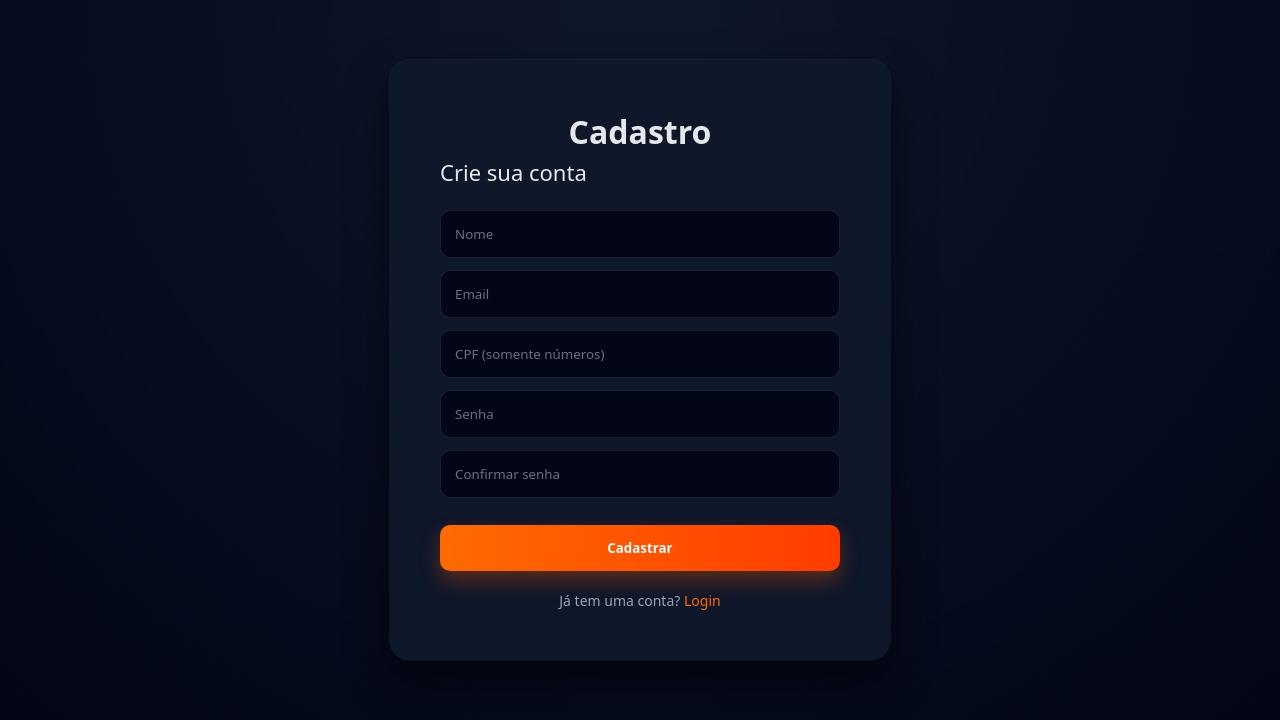
Test: Cadastro › deve mostrar erro para email inválido
In the field with placeholder "Nome": {"x": 640, "y": 234} [440, 210, 840, 258], type "Gaby"
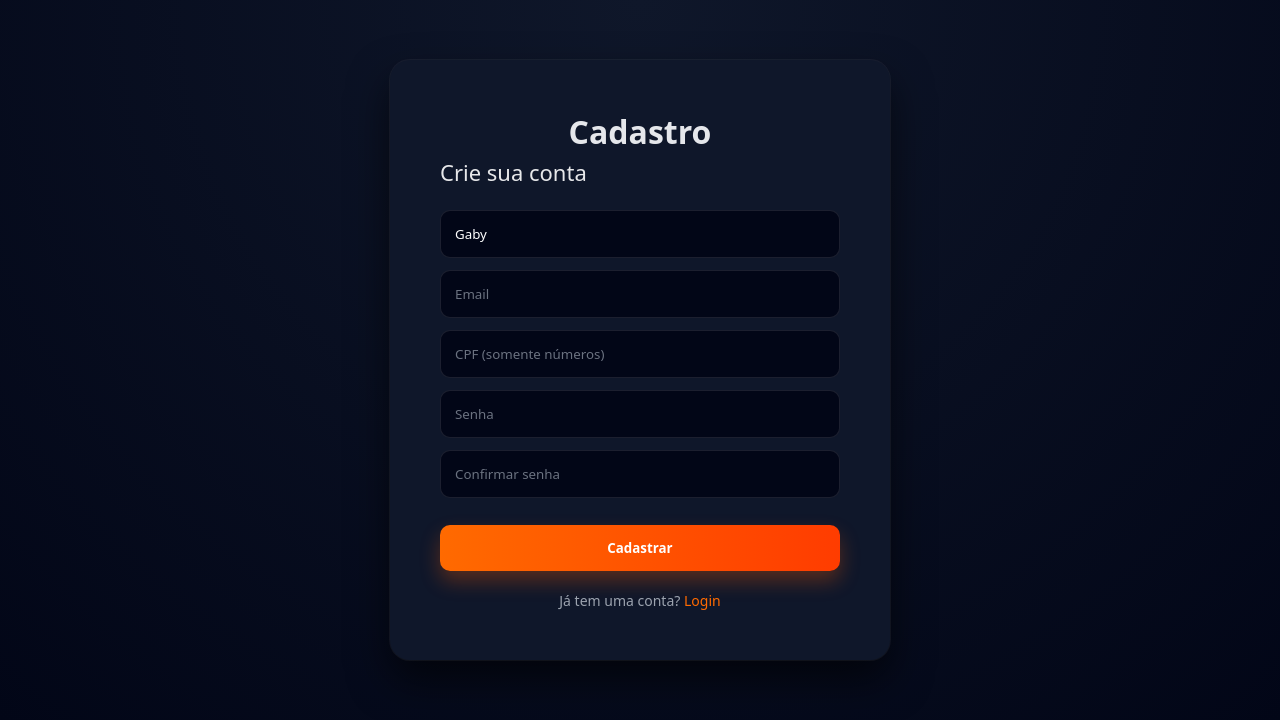
In the field with placeholder "Email": {"x": 640, "y": 294} [440, 270, 840, 318], type "email-invalido"
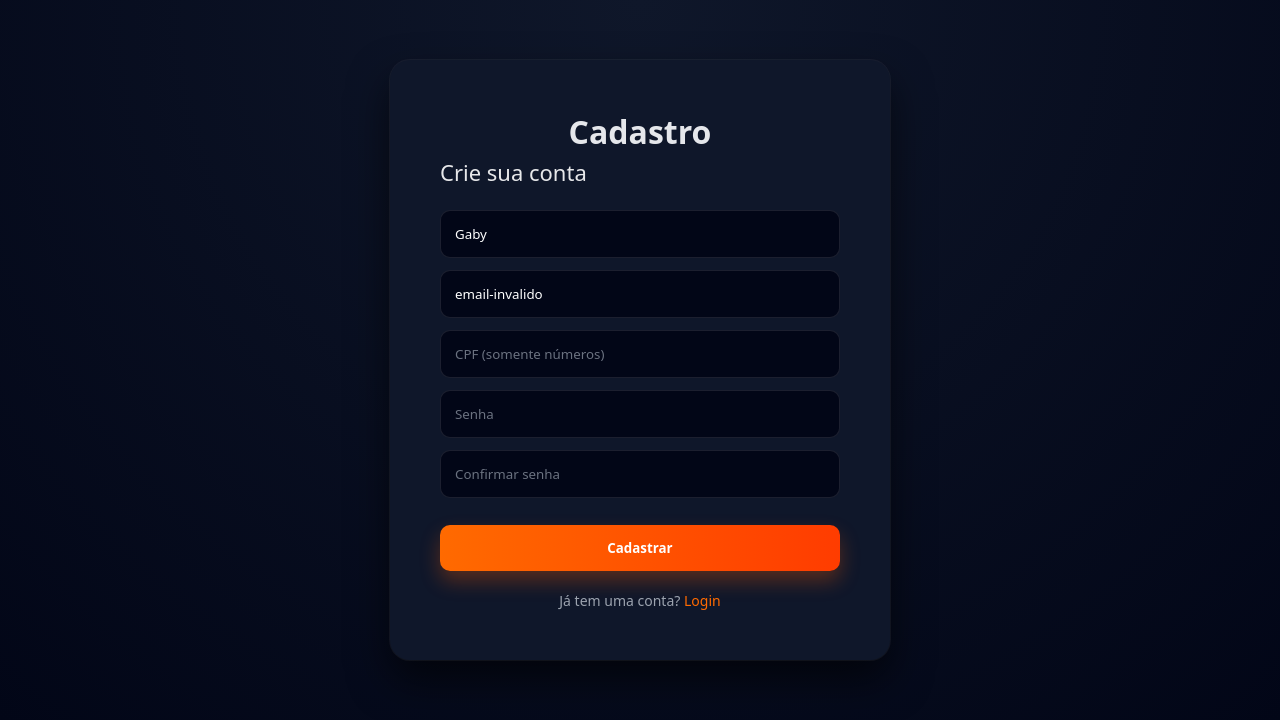
In the field with placeholder "CPF (somente números)": {"x": 640, "y": 354} [440, 330, 840, 378], type "52998224725"
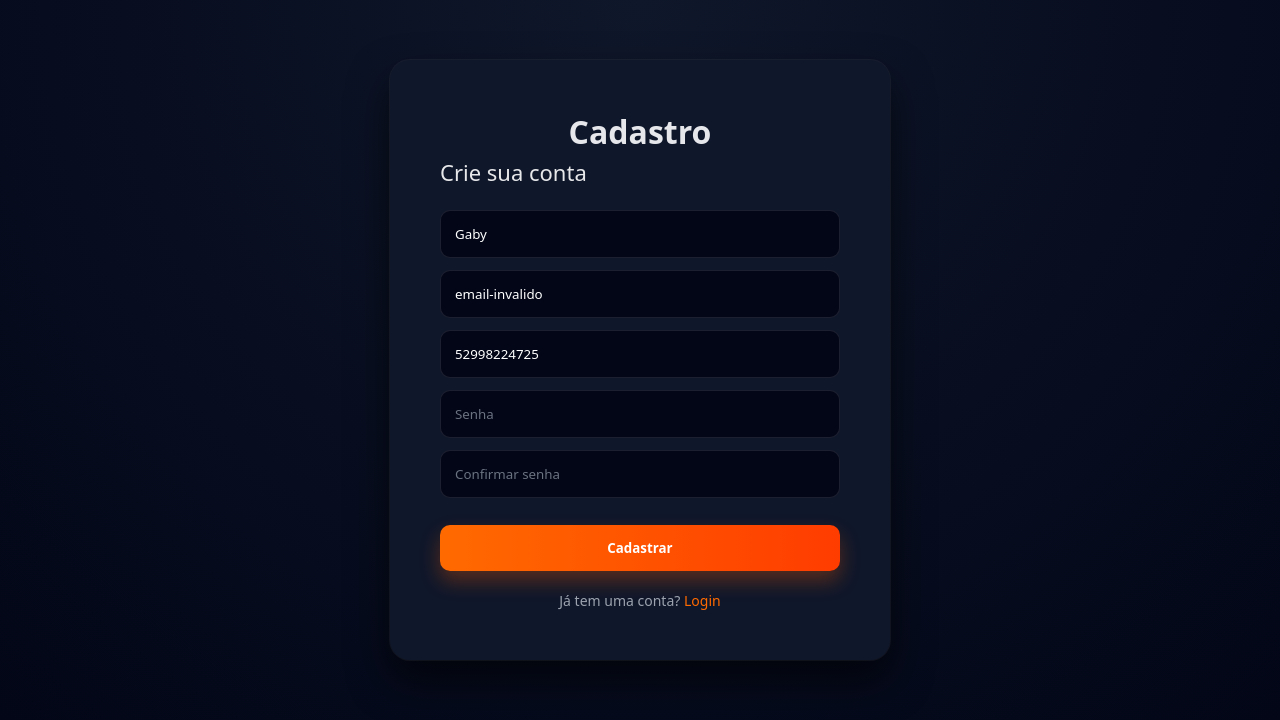
In the password field with placeholder "Senha": {"x": 640, "y": 414} [440, 390, 840, 438], type "123456"
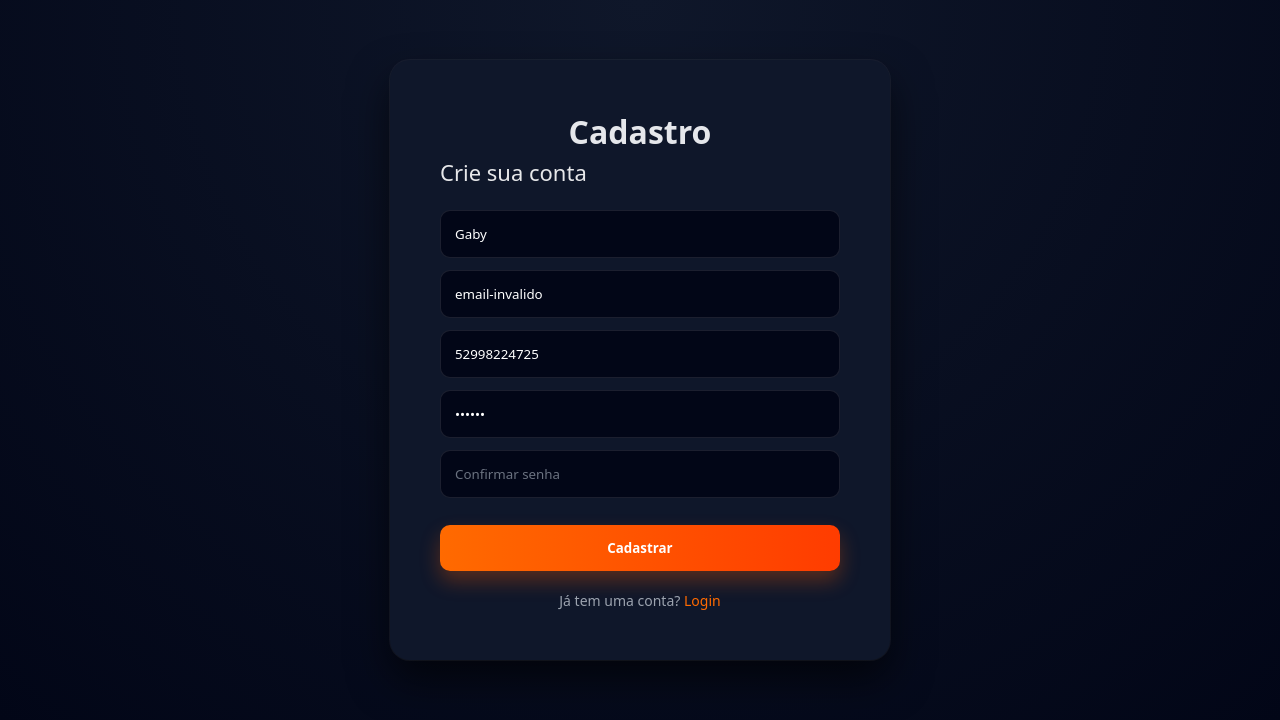
In the password field with placeholder "Confirmar senha": {"x": 640, "y": 474} [440, 450, 840, 498], type "123456"
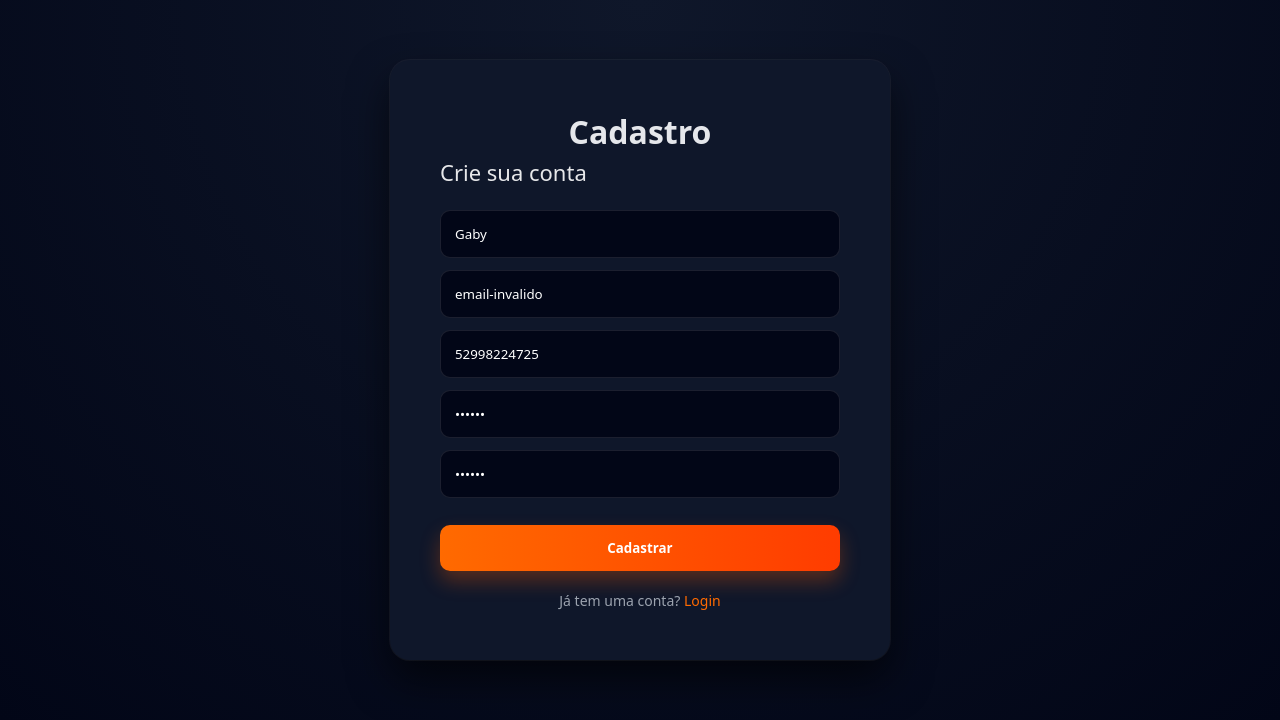
Click the button "Cadastrar": {"x": 640, "y": 548} [440, 525, 840, 571]
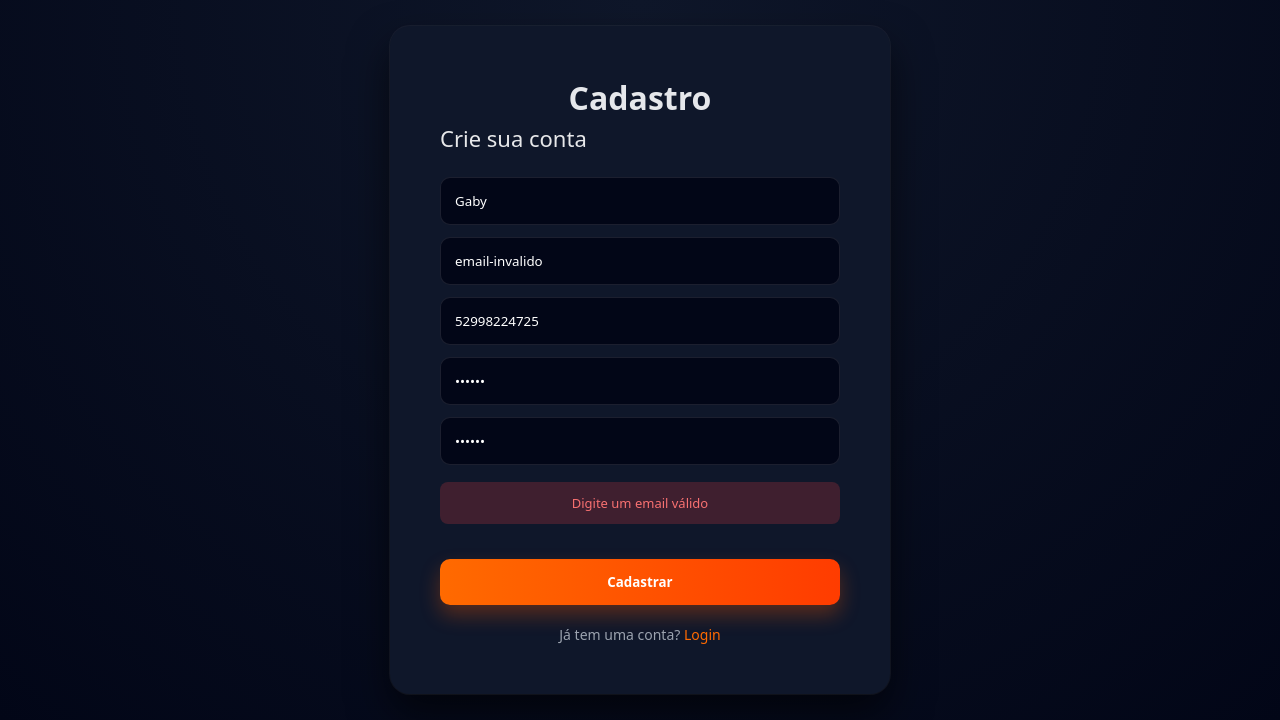
Expected: the text "Digite um email válido" is shown, [440, 482, 840, 524]
